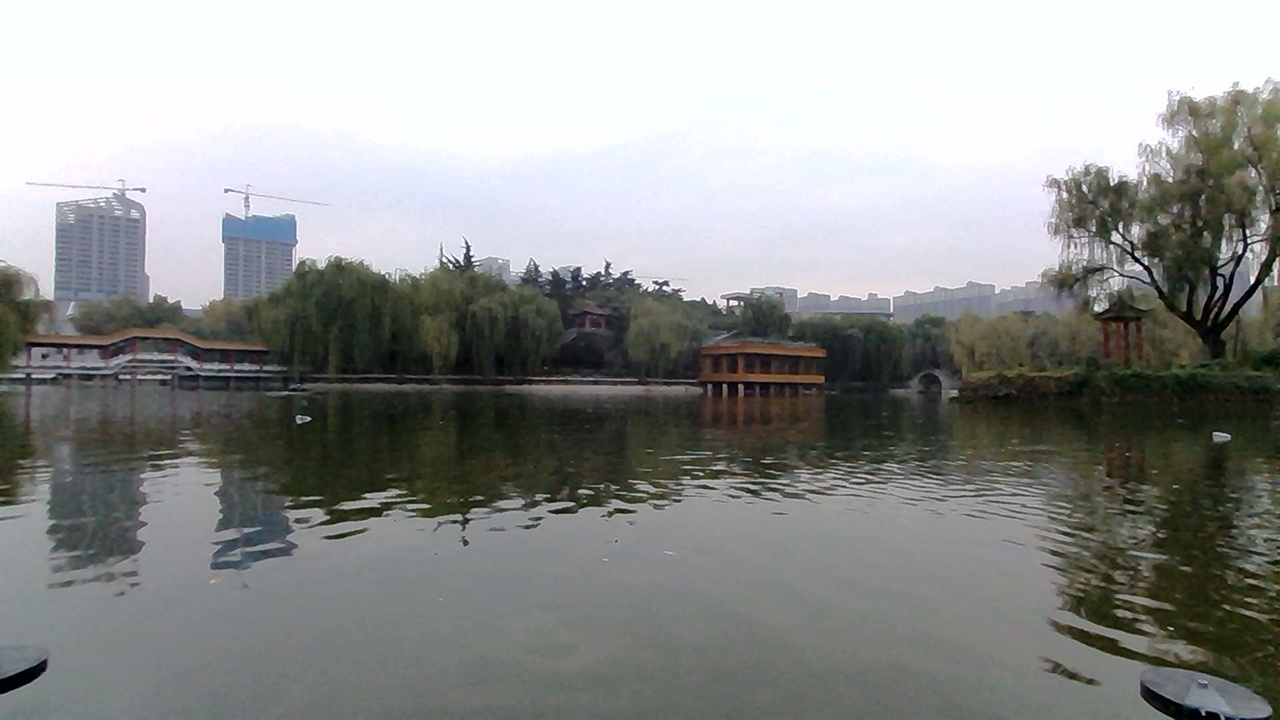bottle: (1201, 414, 1247, 448), (287, 405, 332, 429)
